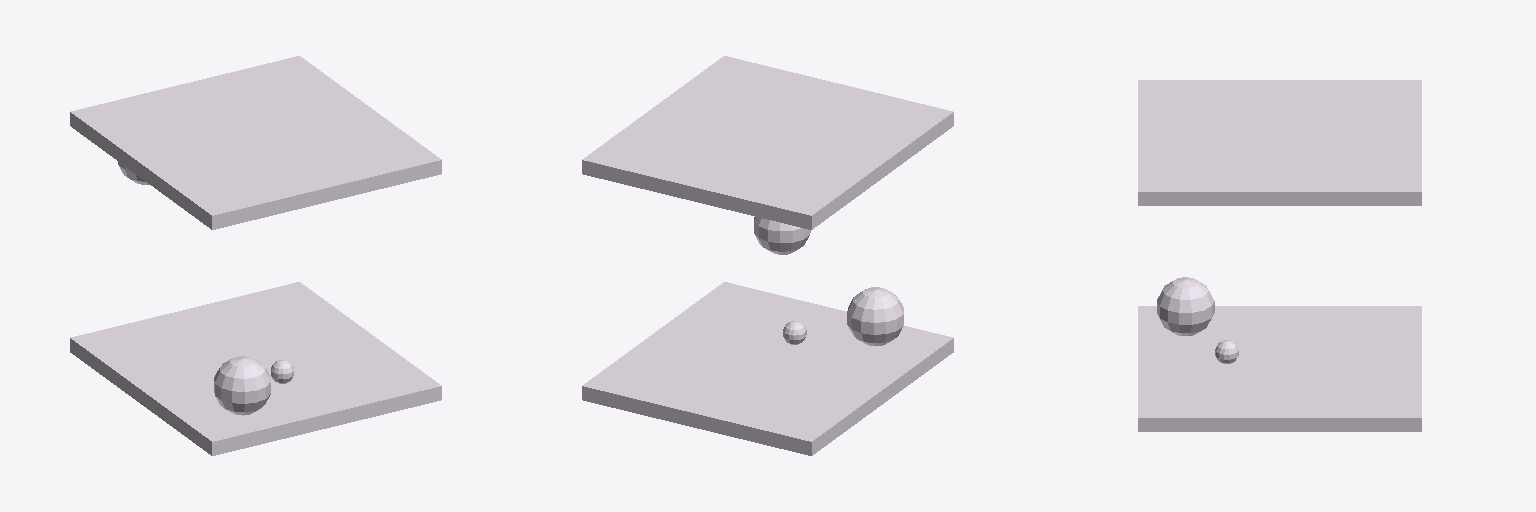
File: testGI.obj
3 views of the same model, side by side, from view 1: azimuth 30°, elevation 25°; view 2: azimuth 150°, elevation 25°; view 3: azimuth 270°, elevation 25° (orthographic).
Parts seen in each view (by area): view 1: Box001; view 2: Box001; view 3: Box001.
Part boxes in pixels (bbox=[...]): Box001: bbox=[70, 56, 441, 455]; Box001: bbox=[582, 56, 953, 455]; Box001: bbox=[1138, 80, 1421, 431].
Size of the model in its own units: 4.32 by 4.32 by 4.64.